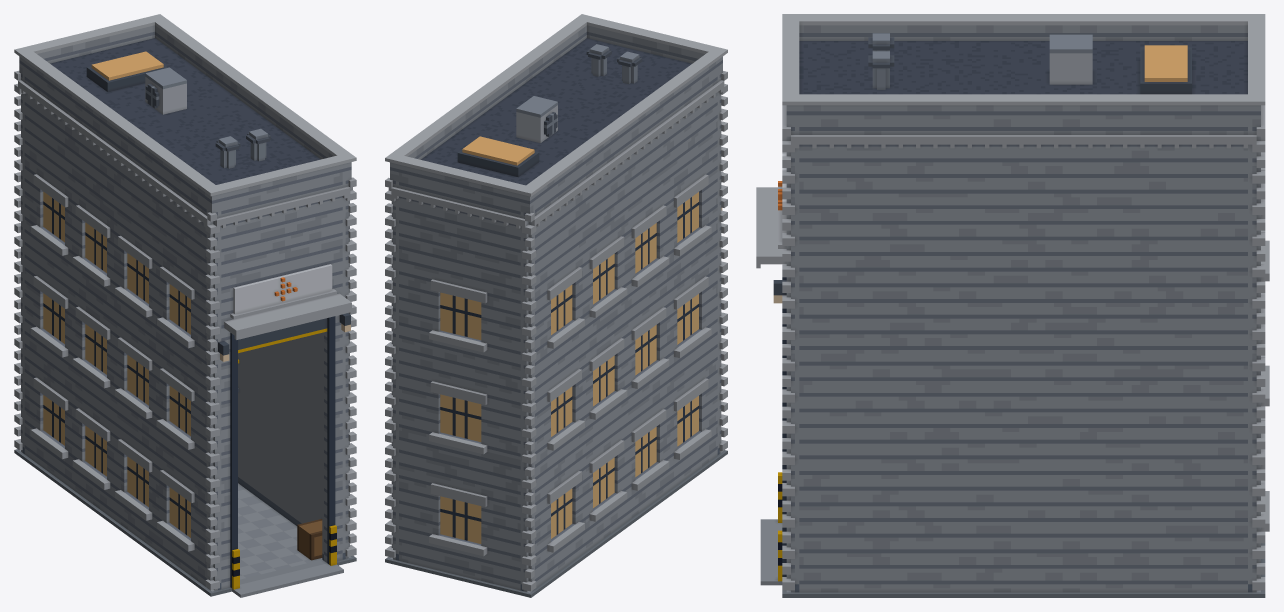
File: workshop_e2_l2.glb
The picture shows the model from 3 angles, left to right: view 1: azimuth 30°, elevation 25°; view 2: azimuth 150°, elevation 25°; view 3: azimuth 270°, elevation 25°; orthographic projection. The views are drawn at different scales.
Visible parts, largest first — view 1: CutNX, CutPZ, CutRoof, Base, CutPX, CutNZ; view 2: CutNX, CutNZ, CutRoof, Base, CutPZ; view 3: CutPX, CutRoof, Base, CutPZ, CutNZ.
Boxes of the visible parts, <box> form: CutNX: <box>18,76,210,557</box>; CutPZ: <box>205,177,356,564</box>; CutRoof: <box>14,14,356,213</box>; Base: <box>14,359,356,597</box>; CutPX: <box>238,187,352,515</box>; CutNZ: <box>14,70,24,425</box>; CutNX: <box>531,76,724,558</box>; CutNZ: <box>385,177,536,565</box>; CutRoof: <box>385,14,727,213</box>; Base: <box>385,425,727,597</box>; CutPZ: <box>717,71,727,426</box>; CutPX: <box>791,127,1256,556</box>; CutRoof: <box>782,14,1265,126</box>; Base: <box>760,480,1265,597</box>; CutPZ: <box>756,105,799,558</box>; CutNZ: <box>1248,105,1269,558</box>.
Size of the model in its own units: 4.9 by 13.1 by 11.9.
